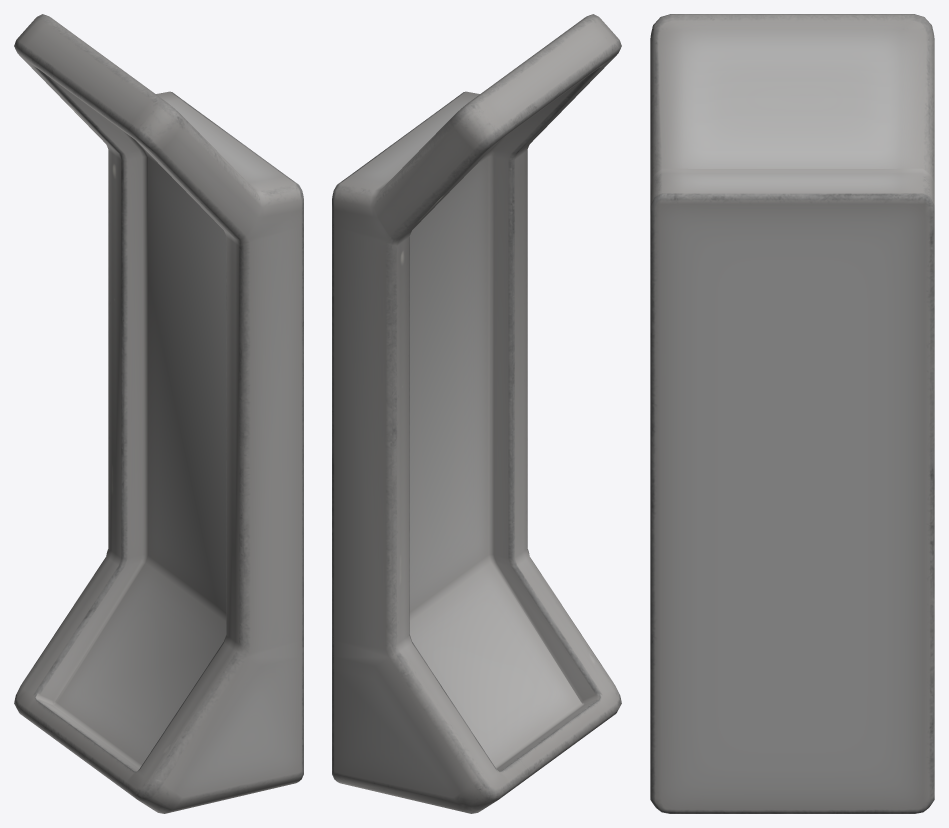
The model's file is scifi_panel.glb.
The picture shows the model from 3 angles, left to right: view 1: azimuth 30°, elevation 25°; view 2: azimuth 150°, elevation 25°; view 3: azimuth 270°, elevation 25°; orthographic projection. The views are drawn at different scales.
Visible parts, largest first — view 1: SM_Panel_3; view 2: SM_Panel_3; view 3: SM_Panel_3.
Part boxes in pixels (x1=…): SM_Panel_3: x1=14, y1=14, x2=303, y2=813; SM_Panel_3: x1=332, y1=14, x2=621, y2=813; SM_Panel_3: x1=650, y1=14, x2=934, y2=813.
Size of the model in its own units: 0.6747 by 2.85 by 1.
Materials: 1 (1 with a texture image).
